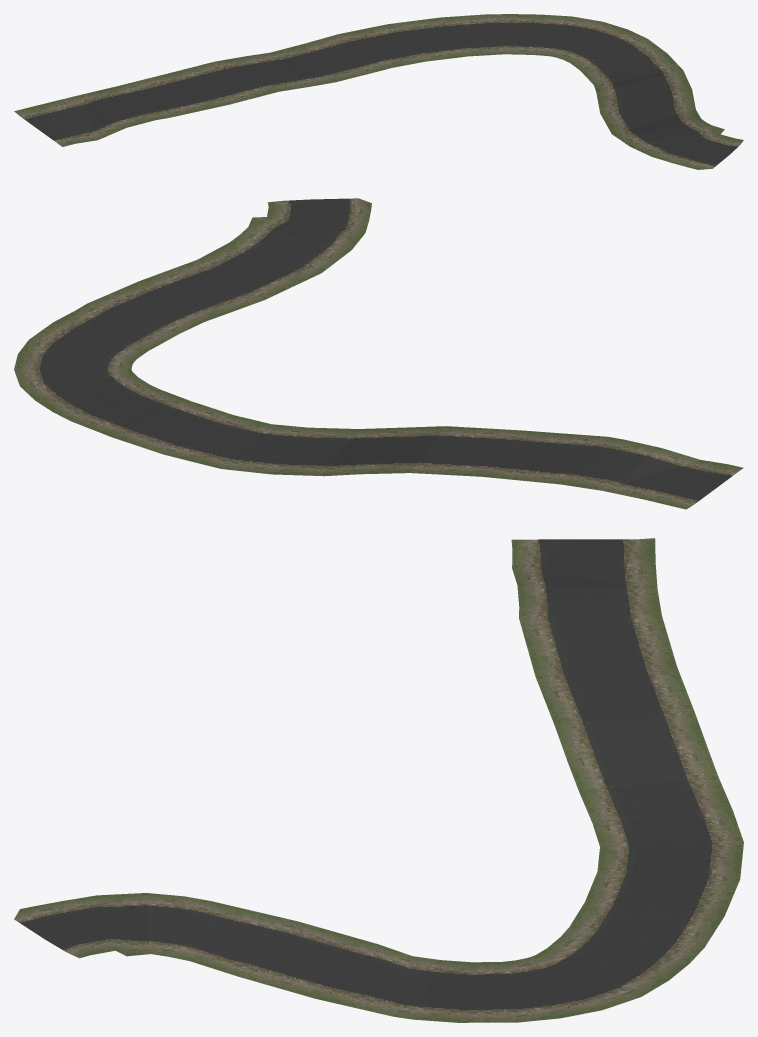
Rendered from lodtcenwhiltest92.obj.
3 views of the same model, one above another, from view 1: azimuth 30°, elevation 25°; view 2: azimuth 150°, elevation 25°; view 3: azimuth 270°, elevation 25° (orthographic). The views are drawn at different scales.
Parts seen in each view (by area): view 1: LODTCEnwhiltest92; view 2: LODTCEnwhiltest92; view 3: LODTCEnwhiltest92.
Boxes of the visible parts, x1,y1,x2,y2 form: LODTCEnwhiltest92: [14, 14, 743, 169]; LODTCEnwhiltest92: [14, 198, 743, 509]; LODTCEnwhiltest92: [14, 538, 743, 1022].
Size of the model in its own units: 141 by 8.82 by 102.
1 material, 1 textured.
